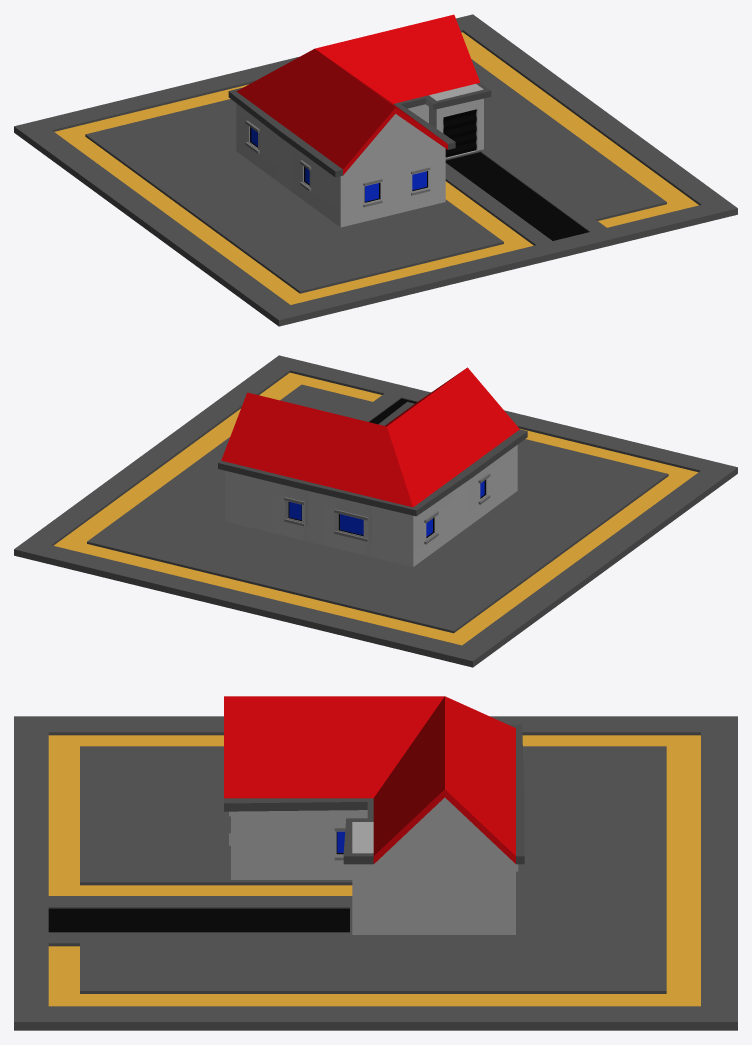
The model's file is Maison1.glb.
The picture shows the model from 3 angles, top to bottom: view 1: azimuth 30°, elevation 25°; view 2: azimuth 150°, elevation 25°; view 3: azimuth 270°, elevation 25°; orthographic projection. The views are drawn at different scales.
Parts seen in each view (by area): view 1: Maison1; view 2: Maison1; view 3: Maison1.
Part boxes in pixels (x1,y1,x2,y2): Maison1: (14, 14, 737, 326); Maison1: (14, 355, 737, 667); Maison1: (14, 696, 737, 1030).
Size of the model in its own units: 25 by 6.01 by 25.
